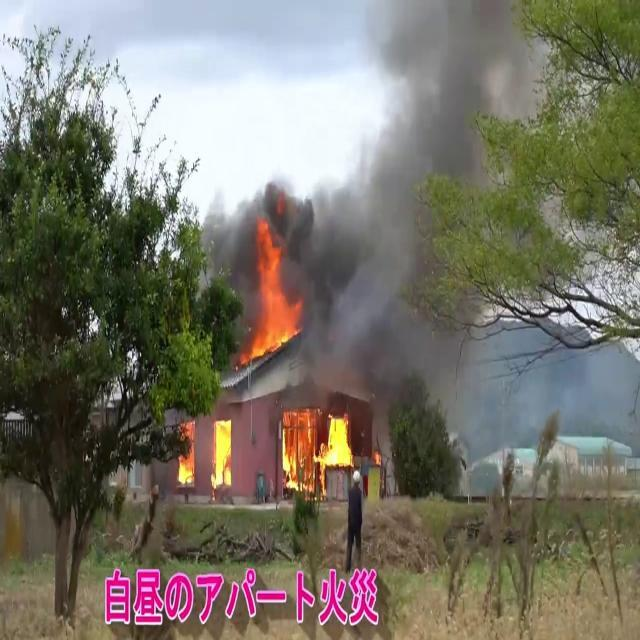Fire: (240, 222, 304, 363), (280, 400, 358, 490)
Smoke: (291, 1, 512, 427)
